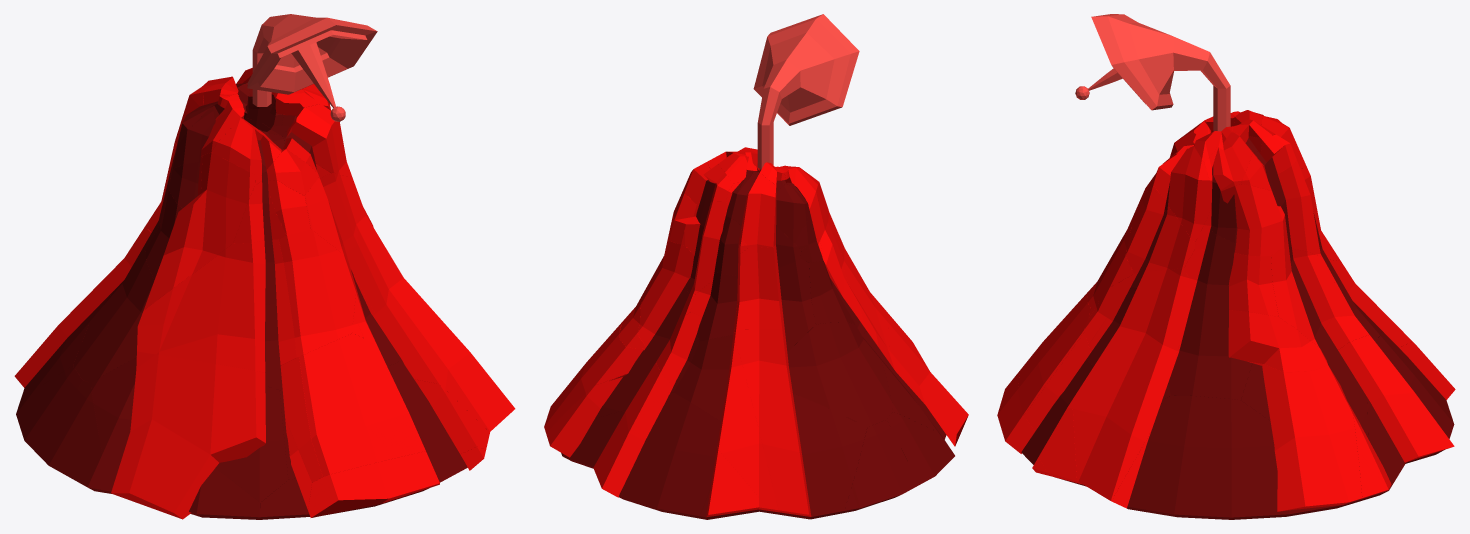
The model's file is volcano_rock_cells.fbx.
3 views of the same model, side by side, from view 1: azimuth 30°, elevation 25°; view 2: azimuth 150°, elevation 25°; view 3: azimuth 270°, elevation 25° (orthographic). The views are drawn at different scales.
Visible parts, largest first — view 1: Lava_cell.036, Lava_cell.026, Lava_cell, Lava_cell.048, Laser_cell.001, Lava_cell.037, Lava_cell.018, Phase02_cell.032, Lava_cell.055, Phase02_cell.029, Phase02_cell.018, Phase02_cell.019 (+27 smaller); view 2: Phase02_cell.051, Phase02_cell.032, Lava_cell.012, Laser_cell.001, Phase02_cell.017, Lava_cell.011, Lava_cell.052, Phase02_cell.034, Lava_cell.015, Lava_cell.036, Phase02_cell.021, Lava_cell.045 (+25 smaller); view 3: Phase02_cell.052, Lava_cell.048, Lava_cell.039, Phase02_cell.003, Lava_cell.052, Laser_cell.001, Lava_cell.005, Lava_cell.025, Phase02_cell.055, Lava_cell.026, Lava_cell.038, Lava_cell.006 (+29 smaller).
Part boxes in pixels (left/top/right/bottom): Lava_cell.036: left=111, top=351, right=265, bottom=519; Lava_cell.026: left=299, top=333, right=425, bottom=476; Lava_cell: left=137, top=240, right=265, bottom=372; Lava_cell.048: left=346, top=208, right=515, bottom=431; Laser_cell.001: left=247, top=14, right=377, bottom=121; Lava_cell.037: left=144, top=152, right=255, bottom=309; Lava_cell.018: left=279, top=229, right=355, bottom=357; Phase02_cell.032: left=73, top=250, right=154, bottom=382; Lava_cell.055: left=308, top=451, right=439, bottom=517; Phase02_cell.029: left=37, top=380, right=112, bottom=493; Phase02_cell.018: left=215, top=386, right=288, bottom=502; Phase02_cell.019: left=91, top=358, right=136, bottom=486; Phase02_cell.051: left=622, top=392, right=720, bottom=515; Phase02_cell.032: left=787, top=322, right=892, bottom=427; Lava_cell.012: left=734, top=329, right=811, bottom=516; Laser_cell.001: left=753, top=14, right=859, bottom=125; Phase02_cell.017: left=736, top=393, right=867, bottom=519; Lava_cell.011: left=717, top=329, right=781, bottom=512; Lava_cell.052: left=593, top=363, right=672, bottom=497; Phase02_cell.034: left=851, top=419, right=919, bottom=508; Lava_cell.015: left=734, top=245, right=784, bottom=329; Lava_cell.036: left=884, top=308, right=968, bottom=446; Phase02_cell.021: left=673, top=335, right=733, bottom=421; Lava_cell.045: left=637, top=240, right=694, bottom=346; Phase02_cell.052: left=1127, top=395, right=1360, bottom=519; Lava_cell.048: left=1072, top=268, right=1194, bottom=500; Lava_cell.039: left=1248, top=361, right=1362, bottom=511; Phase02_cell.003: left=1168, top=230, right=1252, bottom=400; Lava_cell.052: left=1338, top=335, right=1454, bottom=462; Laser_cell.001: left=1075, top=14, right=1173, bottom=110; Lava_cell.005: left=1228, top=310, right=1327, bottom=372; Lava_cell.025: left=1221, top=184, right=1287, bottom=256; Phase02_cell.055: left=1241, top=277, right=1368, bottom=438; Lava_cell.026: left=1017, top=293, right=1090, bottom=415; Lava_cell.038: left=1168, top=146, right=1212, bottom=241; Lava_cell.006: left=1228, top=253, right=1278, bottom=316.
Bounding box in the file's own units: 1556 × 1611 × 1603.
